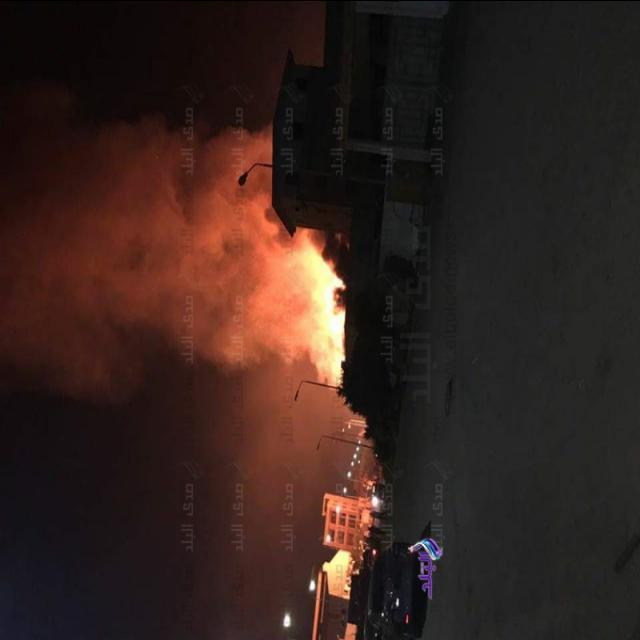Fire: (263, 231, 345, 351)
